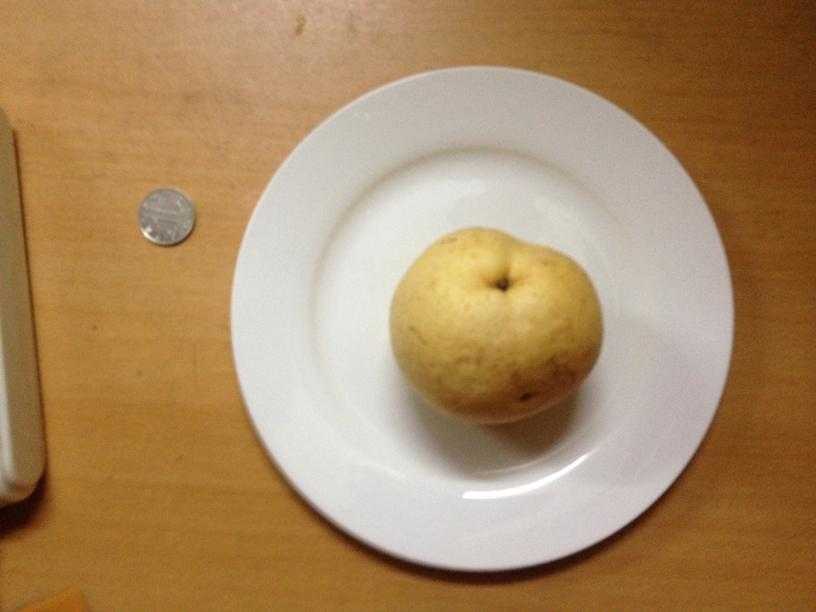coin: (135, 189, 195, 246)
pear: (385, 223, 606, 425)
